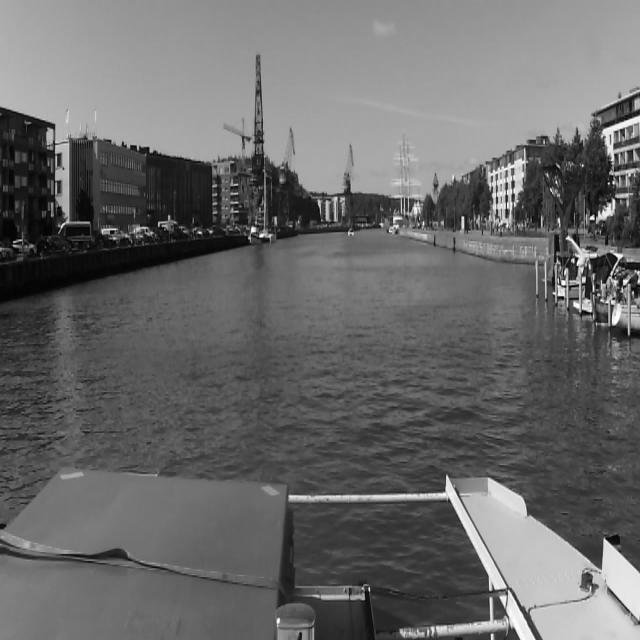ship: (554, 236, 598, 302), (260, 156, 276, 245), (249, 217, 260, 246), (348, 228, 354, 236)
